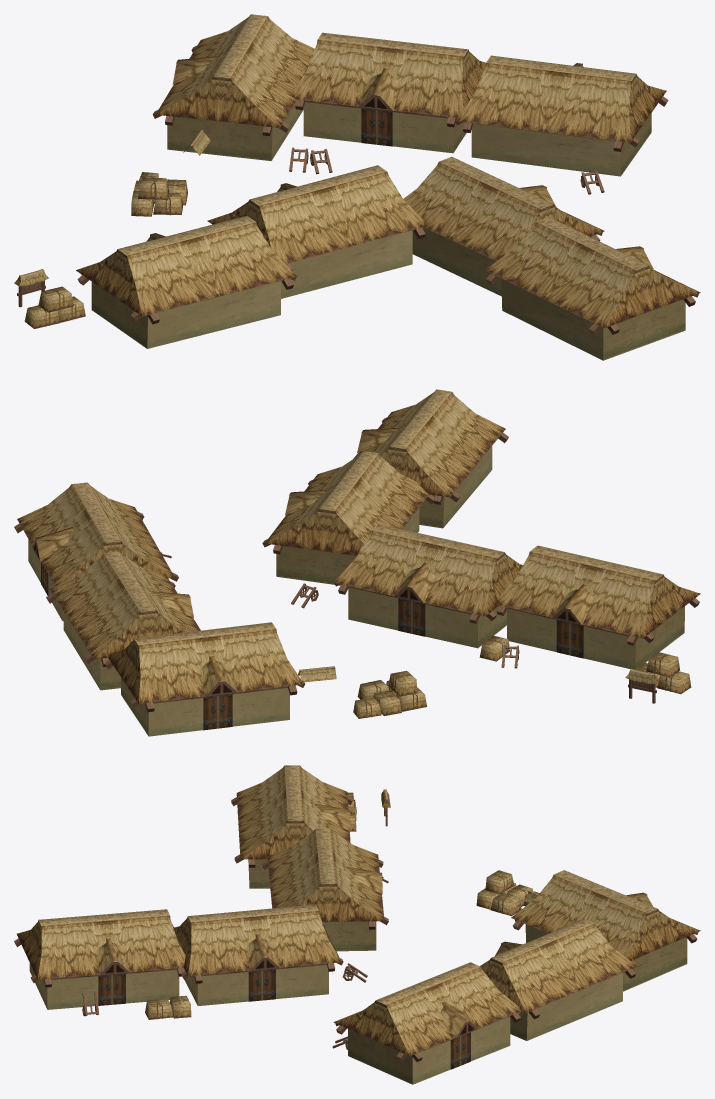
The model's file is Area_09_40.fbx.
3 renders of one model, top to bottom at view 1: azimuth 30°, elevation 25°; view 2: azimuth 150°, elevation 25°; view 3: azimuth 270°, elevation 25°, orthographic. The views are drawn at different scales.
Visible parts, largest first — view 1: Area_09_40; view 2: Area_09_40; view 3: Area_09_40.
Boxes of the visible parts, x1,y1,x2,y2 form: Area_09_40: (14, 14, 700, 360); Area_09_40: (14, 389, 700, 736); Area_09_40: (14, 765, 700, 1084).
Bounding box in the file's own units: 6591 × 773 × 6739.
